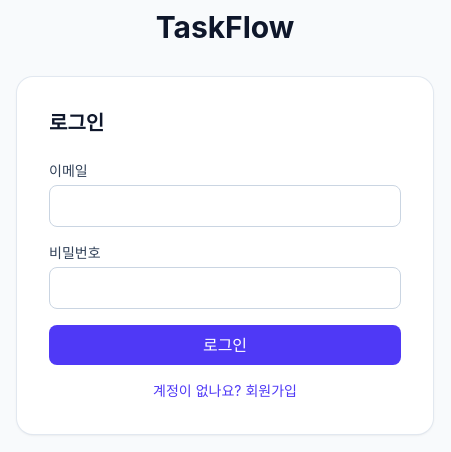
it: 로그인 화면 › 로그인에 성공하면 토큰을 저장하고 환영 메시지를 보여준다
Type "alice@example.com" into the field labelled "이메일" at (225, 206), box [49,185,401,227]
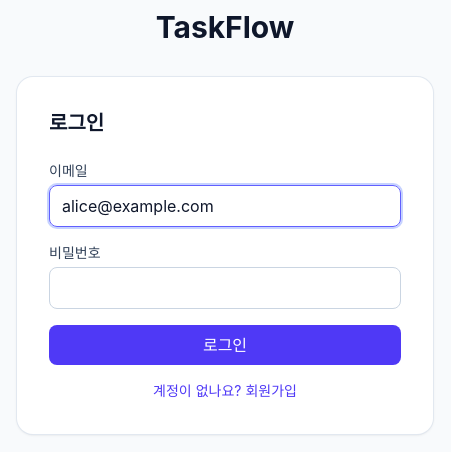
Type "correct-horse" into the password field labelled "비밀번호" at (225, 288), box [49,267,401,309]
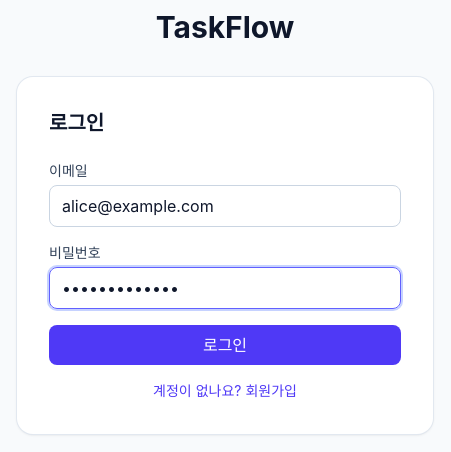
Click the button "로그인" at (225, 345), box [49,325,401,365]
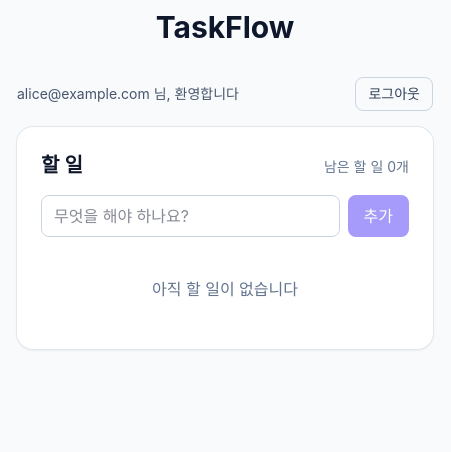
Check: the text "alice@example.com 님, 환영합니다" is shown, box [17,84,239,104]
Check: the heading "로그인" is gone
